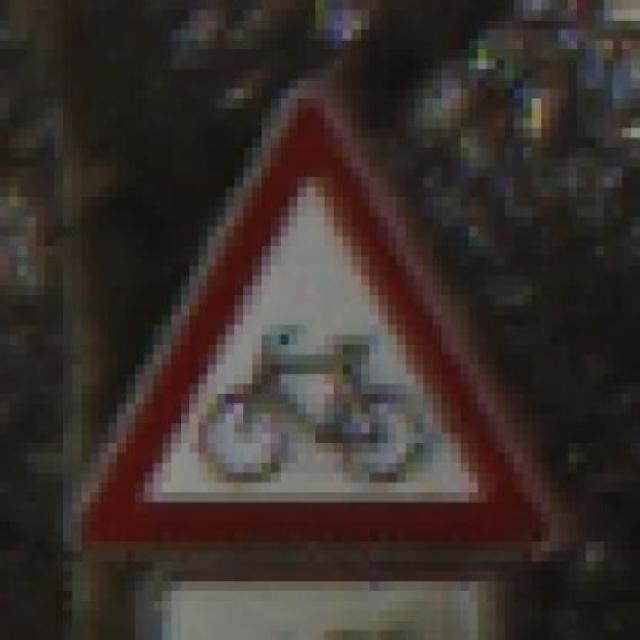CYCLE ROUTE AHEAD WARNING: (36, 69, 559, 572)
